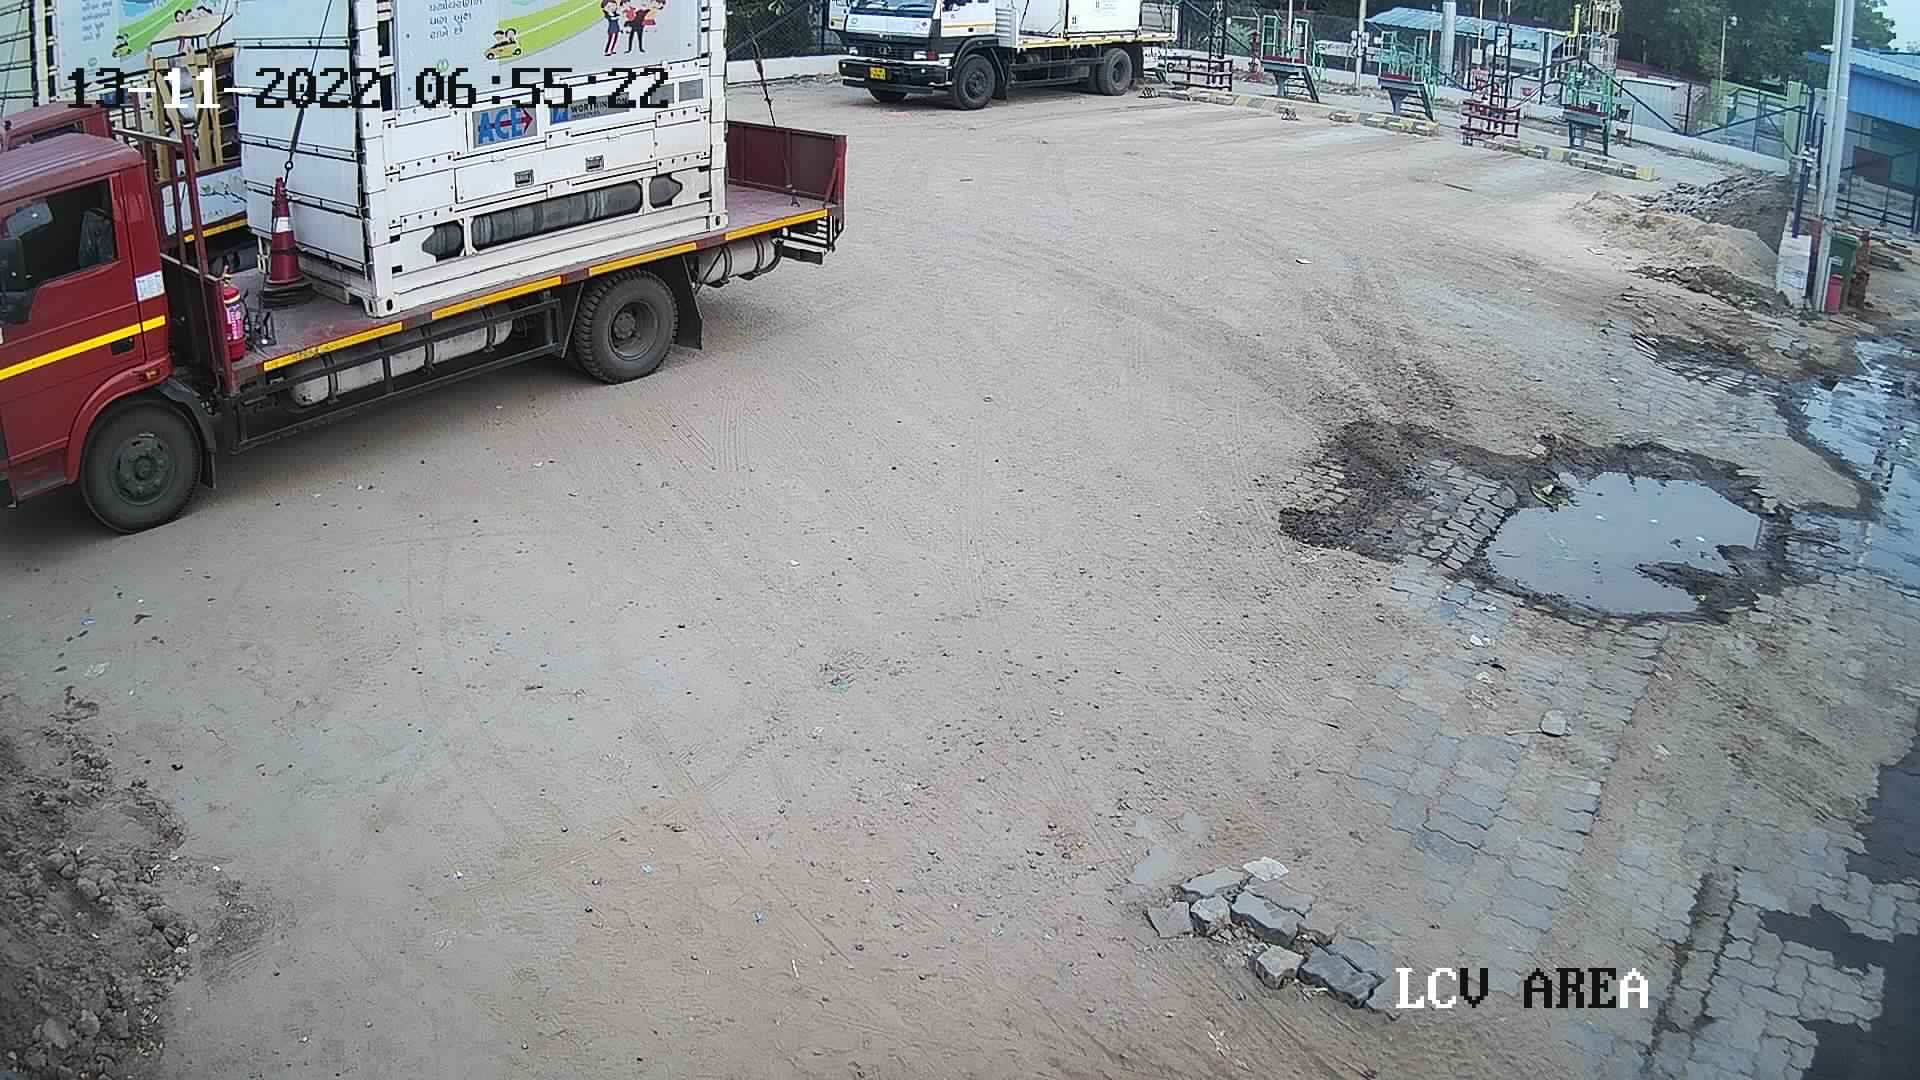HMV: (0, 3, 858, 547), (4, 1, 268, 281), (818, 0, 1192, 123), (3, 0, 249, 135)
